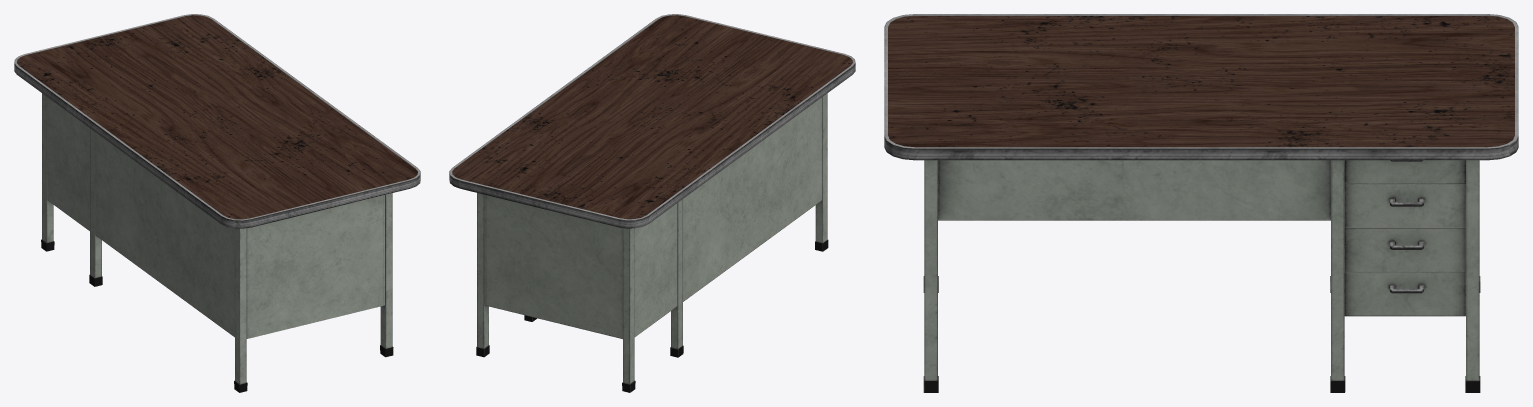
File: table.fbx
3 views of the same model, side by side, from view 1: azimuth 30°, elevation 25°; view 2: azimuth 150°, elevation 25°; view 3: azimuth 270°, elevation 25° (orthographic). The views are drawn at different scales.
Visible parts, largest first — view 1: Cube.003; view 2: Cube.003; view 3: Cube.003.
Part boxes in pixels (x1,y1,x2,y2): Cube.003: (14, 14, 420, 392); Cube.003: (449, 14, 855, 392); Cube.003: (884, 14, 1518, 392).
Bounding box in the file's own units: 101 × 90.06 × 200.
